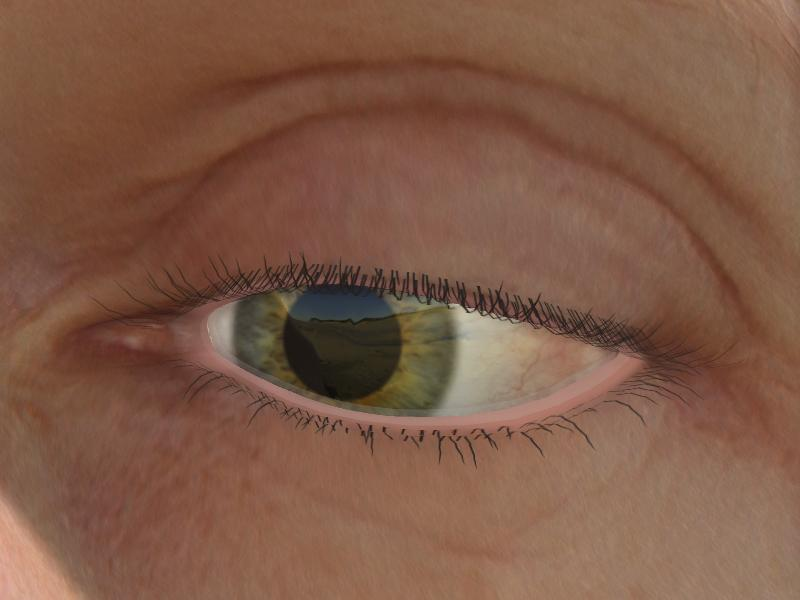eye: (237, 282, 456, 416)
